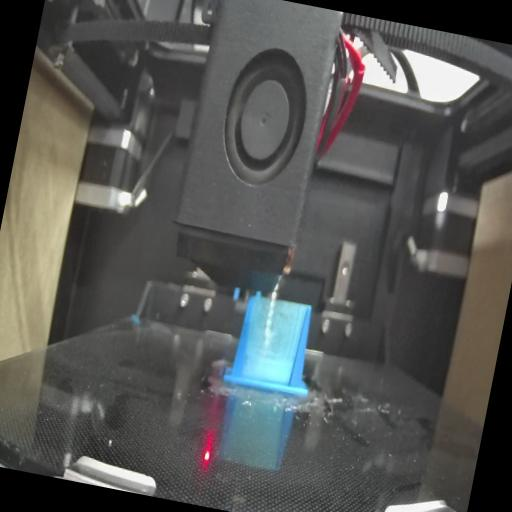stringing: (240, 294, 308, 387)
